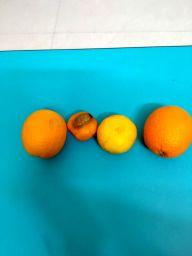orange: (142, 104, 192, 159), (21, 108, 68, 160), (96, 114, 137, 155), (66, 111, 98, 142)
